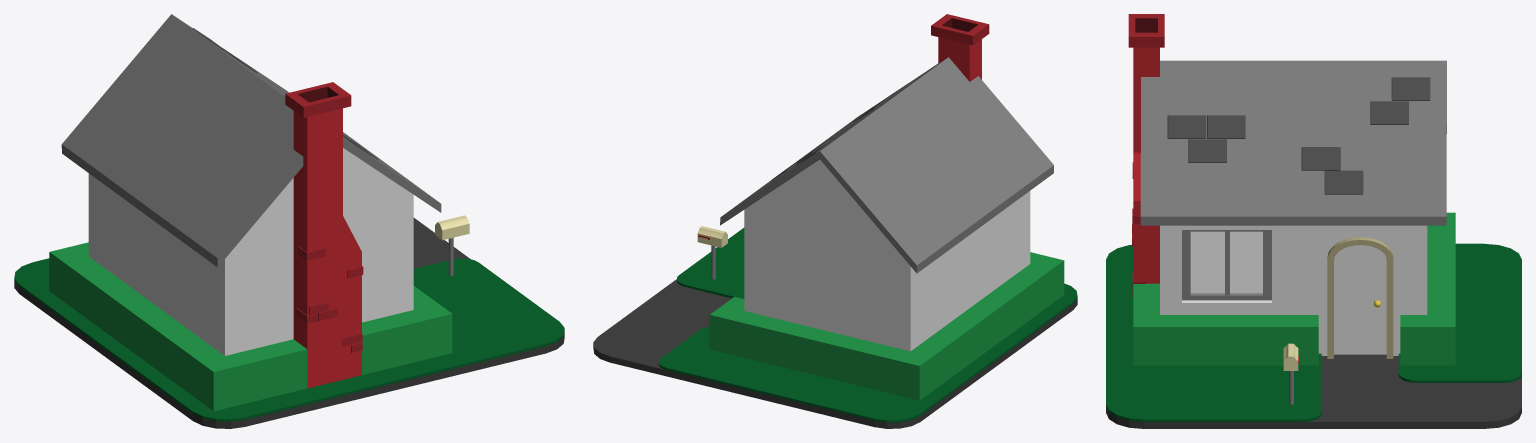
File: exhouse.glb
3 renders of one model, left to right at view 1: azimuth 30°, elevation 25°; view 2: azimuth 150°, elevation 25°; view 3: azimuth 270°, elevation 25°, orthographic. The views are drawn at different scales.
Visible parts, largest first — view 1: Plane.002, Plane.001, Plane, Cube, Cube.004, Plane.008, Cube.002, Cube.003, Cube.005, Cube.007; view 2: Plane.001, Plane.002, Plane, Cube.005, Plane.008, Cube.004, Cube, Cube.007; view 3: Plane.002, Plane, Plane.001, Plane.008, Cube.001, Plane.007, Plane.006, Cube, Cube.005, Cube.006, Cube.002, Plane.003 (+2 smaller).
Part boxes in pixels (box(x1,y1,x2,y2)): Plane.002: box(61, 14, 441, 267); Plane.001: box(88, 148, 413, 355); Plane: box(14, 258, 564, 421); Cube: box(285, 82, 363, 388); Cube.004: box(64, 256, 238, 411); Plane.008: box(14, 217, 564, 428); Cube.002: box(362, 303, 452, 374); Cube.003: box(225, 339, 307, 404); Cube.005: box(49, 242, 88, 301); Cube.007: box(435, 215, 469, 240); Plane.001: box(744, 159, 1030, 351); Plane.002: box(720, 57, 1053, 273); Plane: box(658, 227, 1077, 422); Cube.005: box(711, 306, 932, 400); Plane.008: box(593, 279, 1077, 428); Cube.004: box(911, 255, 1064, 390); Cube: box(931, 14, 989, 81); Cube.007: box(697, 226, 727, 247); Plane.002: box(1140, 60, 1446, 225); Plane: box(1106, 243, 1521, 421); Plane.001: box(1160, 225, 1427, 355); Plane.008: box(1106, 354, 1521, 428); Cube.001: box(1162, 315, 1318, 365); Plane.007: box(1167, 77, 1430, 194); Plane.006: box(1334, 245, 1386, 354); Cube: box(1128, 14, 1164, 297); Cube.005: box(1427, 212, 1455, 325); Cube.006: box(1400, 315, 1455, 365); Cube.002: box(1133, 283, 1161, 365); Plane.003: box(1182, 230, 1271, 300).
Bounding box in the file's own units: 8 × 6.13 × 8.
